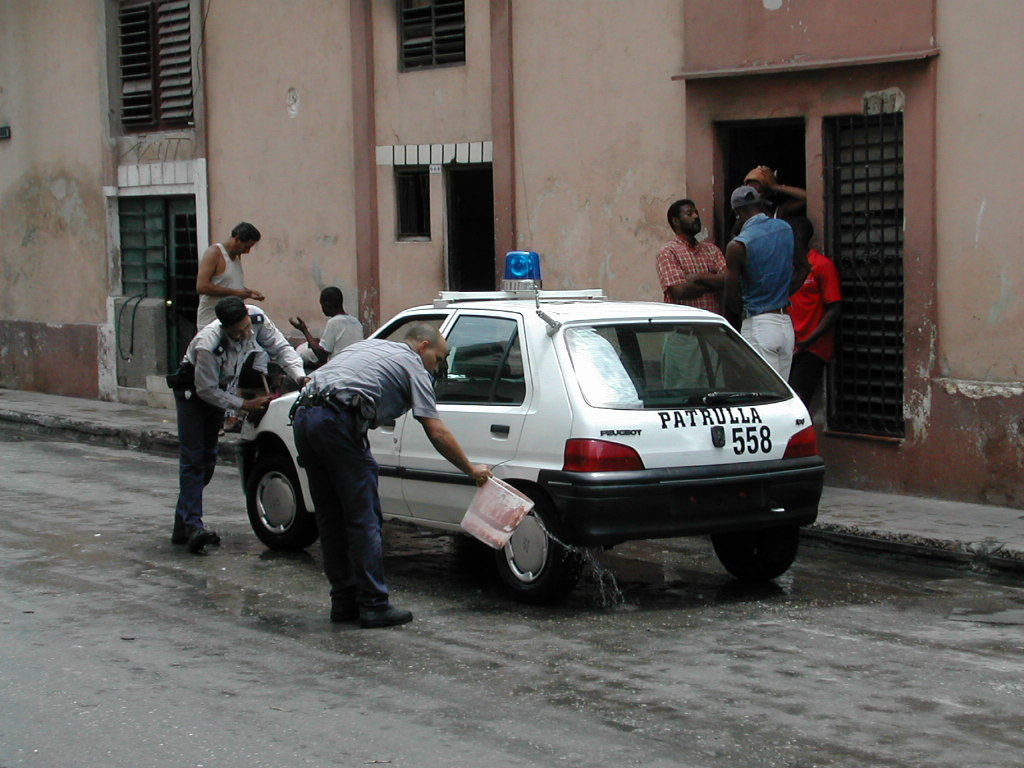Car: (250, 282, 828, 608)
